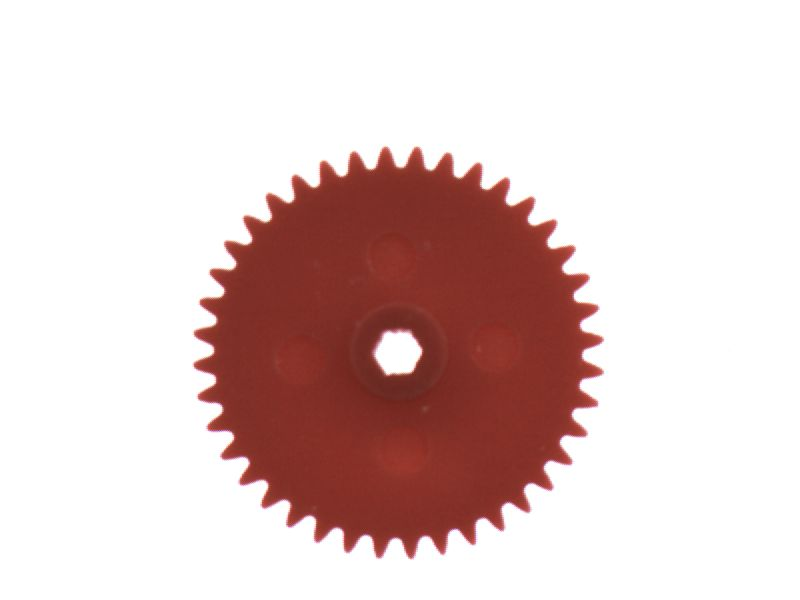good_product: (167, 130, 623, 575)
